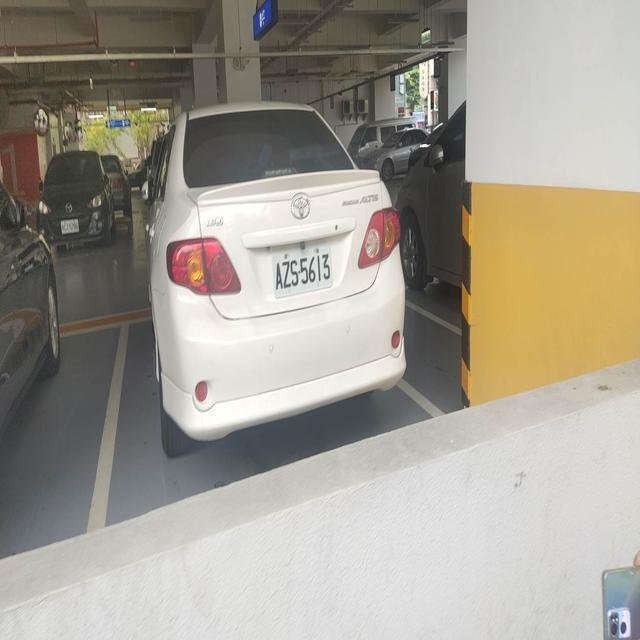license: (270, 250, 335, 292)
